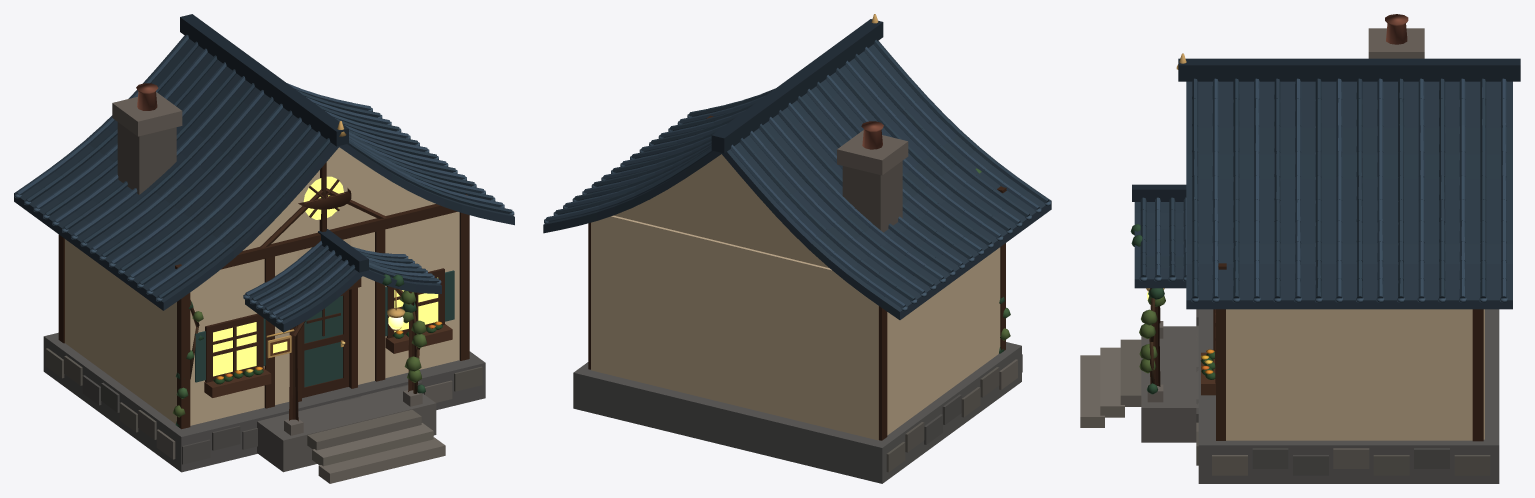
Rendered from sunflower-cottage.glb.
3 renders of one model, left to right at view 1: azimuth 30°, elevation 25°; view 2: azimuth 150°, elevation 25°; view 3: azimuth 270°, elevation 25°, orthographic. The views are drawn at different scales.
Parts seen in each view (by area): view 1: Cottage_Tiled_Roof, Cottage_Stone_Base, Cottage_Plaster_Walls, Cottage_Timber_Frame, Cottage_Door_Leaf, Cottage_Window_Glow_Mesh, Cottage_Ivy_Flowers; view 2: Cottage_Plaster_Walls, Cottage_Tiled_Roof, Cottage_Stone_Base, Cottage_Timber_Frame; view 3: Cottage_Tiled_Roof, Cottage_Plaster_Walls, Cottage_Stone_Base, Cottage_Timber_Frame, Cottage_Ivy_Flowers.
Boxes of the visible parts, bbox=[...] form: Cottage_Tiled_Roof: bbox=[14, 14, 514, 332]; Cottage_Stone_Base: bbox=[43, 83, 485, 483]; Cottage_Plaster_Walls: bbox=[65, 147, 459, 425]; Cottage_Timber_Frame: bbox=[58, 162, 469, 429]; Cottage_Door_Leaf: bbox=[302, 290, 348, 397]; Cottage_Window_Glow_Mesh: bbox=[213, 176, 438, 376]; Cottage_Ivy_Flowers: bbox=[173, 274, 442, 427]; Cottage_Plaster_Walls: bbox=[591, 154, 1000, 440]; Cottage_Tiled_Roof: bbox=[543, 19, 1051, 319]; Cottage_Stone_Base: bbox=[573, 121, 1022, 483]; Cottage_Timber_Frame: bbox=[588, 115, 1006, 440]; Cottage_Tiled_Roof: bbox=[1132, 58, 1520, 309]; Cottage_Plaster_Walls: bbox=[1226, 309, 1484, 440]; Cottage_Stone_Base: bbox=[1080, 14, 1499, 483]; Cottage_Timber_Frame: bbox=[1149, 263, 1483, 441]; Cottage_Ivy_Flowers: bbox=[1130, 224, 1215, 394].
Size of the model in its own units: 8.04 by 6.86 by 7.85.
